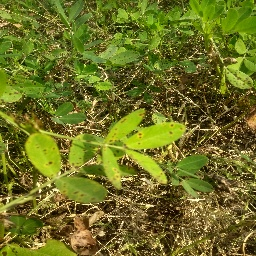GroundNut_Leaf: (122, 150, 169, 190), (24, 131, 62, 179), (125, 123, 190, 148), (53, 179, 110, 204), (66, 135, 104, 166), (222, 4, 255, 38), (222, 66, 254, 90), (55, 102, 88, 124), (10, 216, 46, 235), (181, 177, 215, 197), (175, 154, 213, 170), (1, 85, 25, 104), (113, 49, 142, 64), (69, 1, 88, 21), (70, 33, 87, 55), (95, 82, 116, 92)
